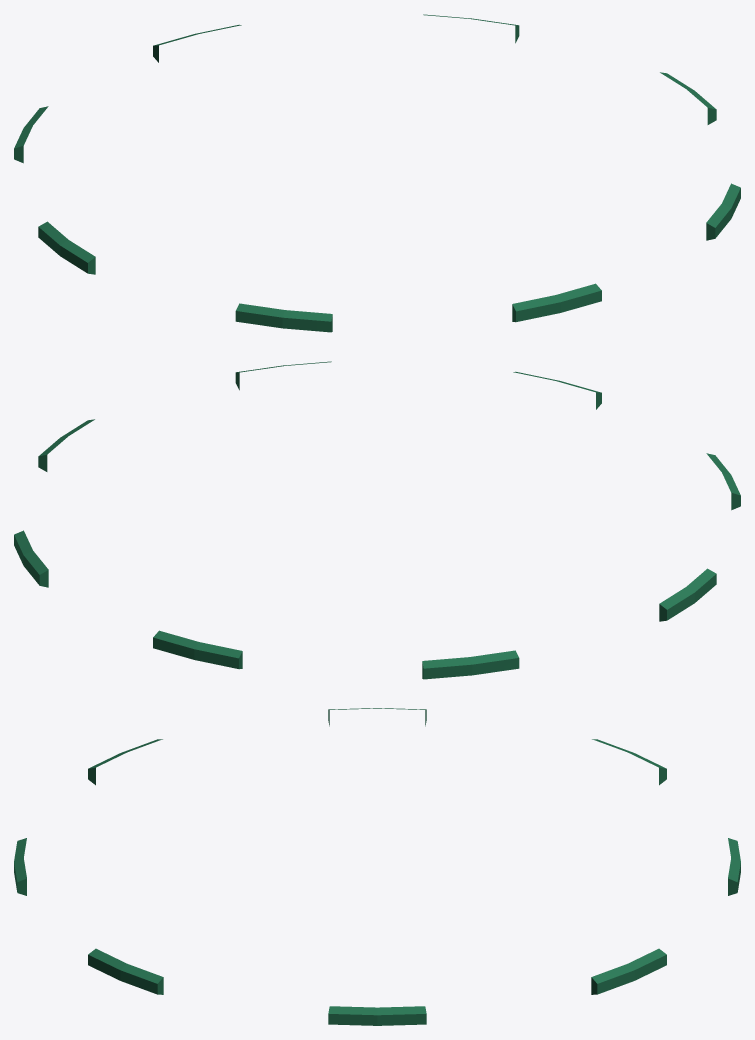
File: dome.trim_middle.green.glb
The picture shows the model from 3 angles, top to bottom: view 1: azimuth 30°, elevation 25°; view 2: azimuth 150°, elevation 25°; view 3: azimuth 270°, elevation 25°; orthographic projection.
Visible parts, largest first — view 1: dome_trim_middle_green; view 2: dome_trim_middle_green; view 3: dome_trim_middle_green.
Part boxes in pixels (x1,y1,x2,y2): dome_trim_middle_green: [14, 14, 740, 332]; dome_trim_middle_green: [14, 361, 740, 679]; dome_trim_middle_green: [14, 708, 740, 1025].
Size of what is drawn, in the model's own units: 7.4 by 0.2 by 7.4.
